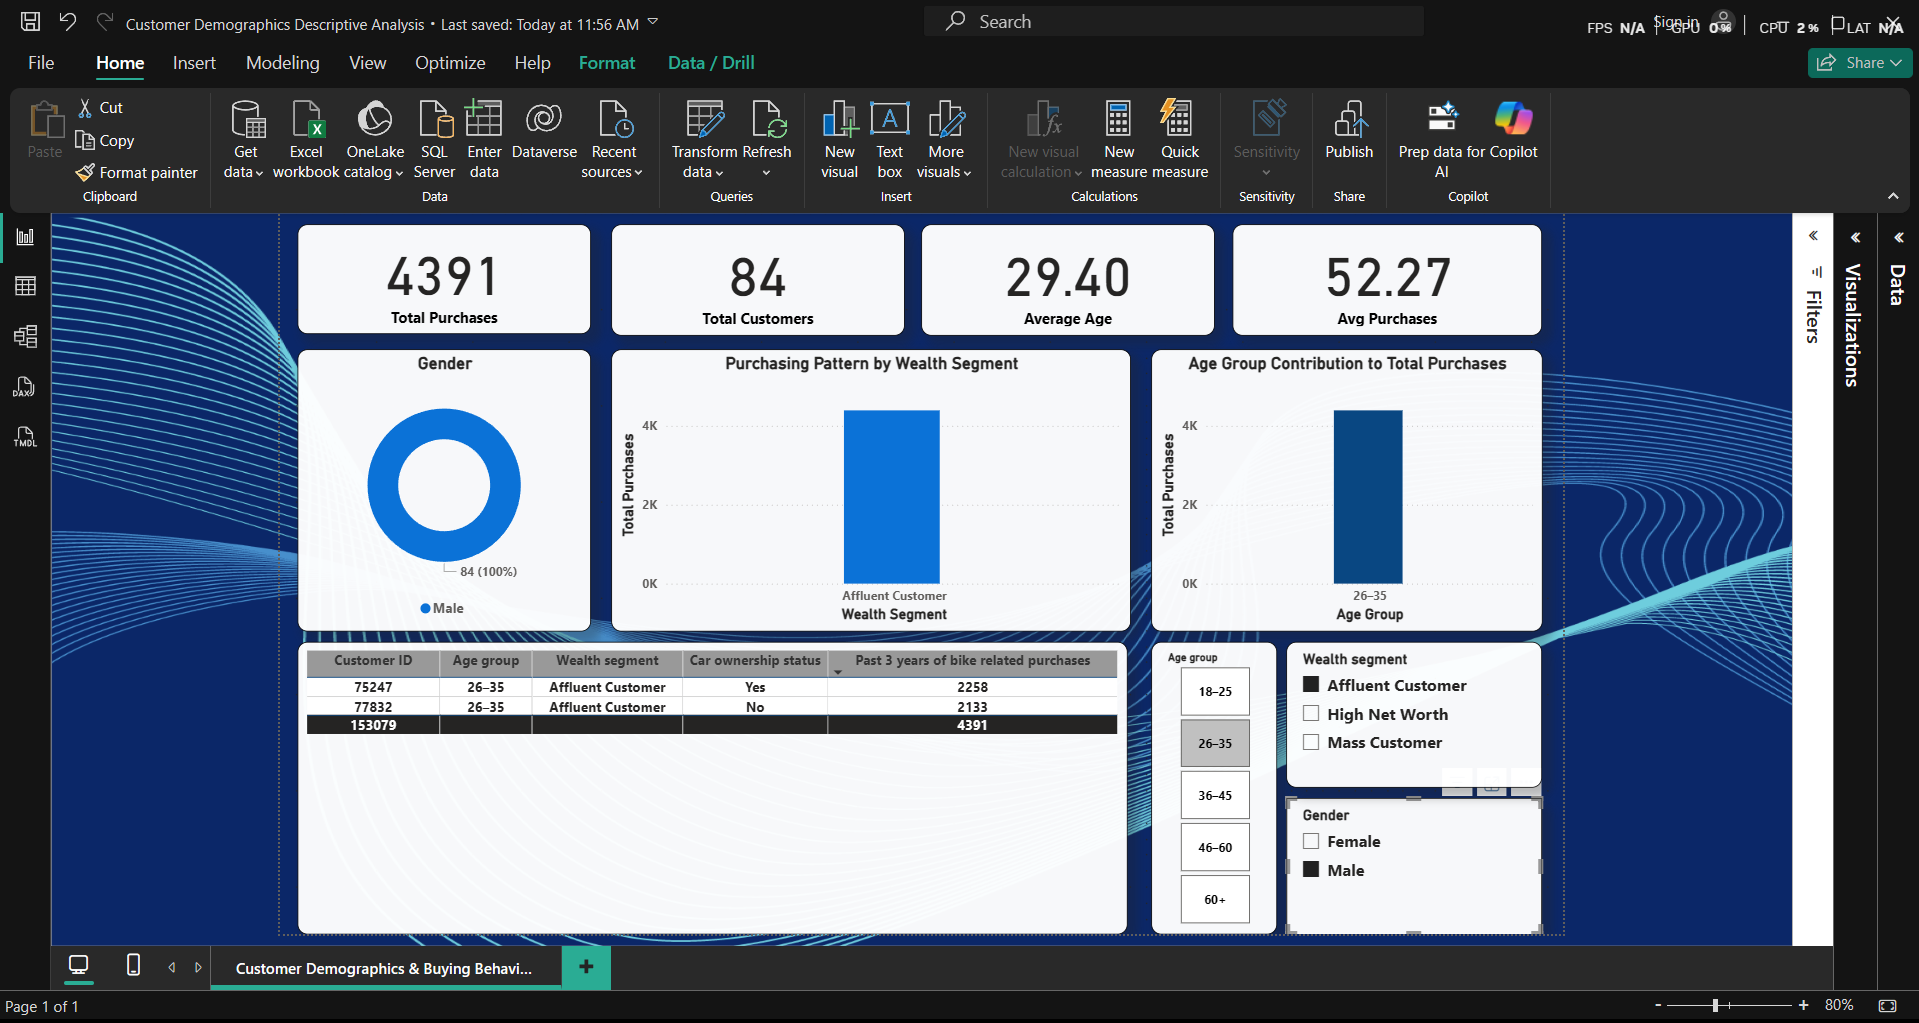

What the dashboard file says about the page in this screenshot:
{"tool":"powerbi","page":{"name":"Customer Demographics & Buying Behavior Dashboard","canvas":[1280,720],"ordinal":0},"visuals":[{"type":"card","fields":{"Values":["customer_summary.Total Purchases"]},"box":[17.5,11.2,293,109.7],"z":0},{"type":"card","fields":{"Values":["customer_summary.Total Customers"]},"box":[330.4,11.2,293,111],"z":1000},{"type":"card","fields":{"Values":["customer_summary.Avg Purchases"]},"box":[950,11.2,309.2,111],"z":2000},{"type":"card","fields":{"Values":["customer_summary.Average Age"]},"box":[639.6,11.2,293,111],"z":3000},{"type":"donutChart","title":"Gender","fields":{"Category":["customer_summary.gender"],"Y":["CountNonNull(customer_summary.gender)"]},"box":[17.5,135.9,293,281.8],"z":4000},{"type":"clusteredColumnChart","title":"Purchasing Pattern by Wealth Segment ","fields":{"Category":["customer_summary.wealth_segment"],"Y":["customer_summary.Total Purchases"],"Series":["customer_summary.gender"]},"box":[330.4,135.9,518.6,281.8],"z":5000},{"type":"columnChart","title":"Age Group Contribution to Total Purchases","fields":{"Category":["customer_summary.age_group"],"Y":["customer_summary.Total Purchases"]},"box":[869,135.9,390.2,281.8],"z":6000},{"type":"tableEx","fields":{"Values":["Sum(customer_summary.customer_id)","customer_summary.age_group","customer_summary.wealth_segment","customer_summary.owns_car","Sum(customer_summary.past_3_years_bike_related_purchases)"]},"box":[17.5,427.6,827.8,291.7],"z":7000},{"type":"slicer","fields":{"Values":["customer_summary.age_group"]},"box":[869,427.6,125.9,291.7],"z":8000},{"type":"slicer","fields":{"Values":["customer_summary.gender"]},"box":[1003.6,583.5,255.6,137.1],"z":9000},{"type":"slicer","fields":{"Values":["customer_summary.wealth_segment"]},"box":[1003.6,427.6,255.6,145.9],"z":10000}]}

Visuals, with their boxes on the page's 1280x720 design canvas (x1, y1, x2, y2). These are canvas units, not pixel positions in the 1919x1023 screenshot, which may show the page scaled, cropped or inside an application window:
card - customer_summary.Total Purchases: <bbox>18, 11, 310, 121</bbox>
card - customer_summary.Total Customers: <bbox>330, 11, 623, 122</bbox>
card - customer_summary.Avg Purchases: <bbox>950, 11, 1259, 122</bbox>
card - customer_summary.Average Age: <bbox>640, 11, 933, 122</bbox>
"Gender" donutChart: <bbox>18, 136, 310, 418</bbox>
"Purchasing Pattern by Wealth Segment " clusteredColumnChart: <bbox>330, 136, 849, 418</bbox>
"Age Group Contribution to Total Purchases" columnChart: <bbox>869, 136, 1259, 418</bbox>
tableEx - Sum(customer_summary.customer_id) x customer_summary.age_group: <bbox>18, 428, 845, 719</bbox>
slicer - customer_summary.age_group: <bbox>869, 428, 995, 719</bbox>
slicer - customer_summary.gender: <bbox>1004, 584, 1259, 721</bbox>
slicer - customer_summary.wealth_segment: <bbox>1004, 428, 1259, 574</bbox>
